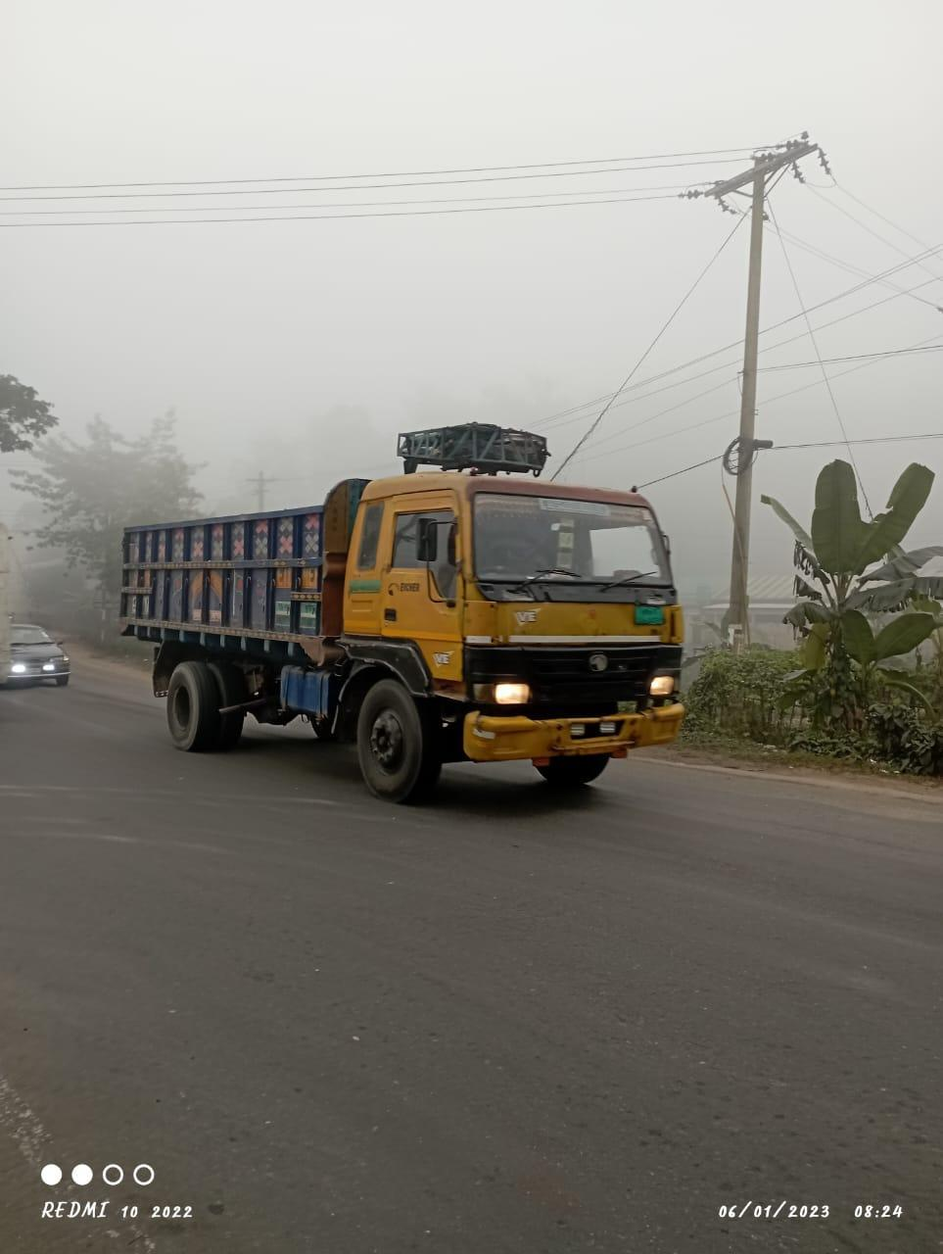Car: (2, 610, 79, 697)
Truck: (79, 415, 722, 826)
